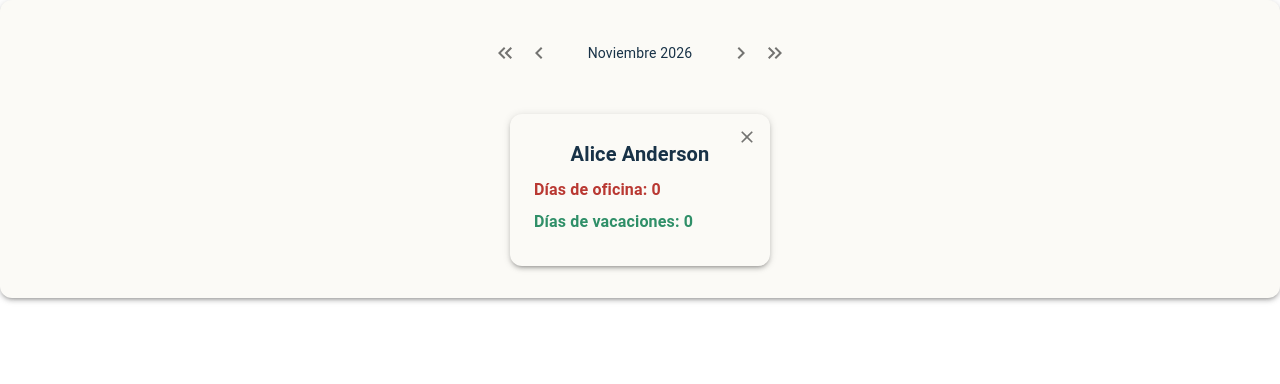
ManagerDashboard › shows a translated error when removing a coworker fails
The image size is (1280, 384).
Expected: the heading "Alice Anderson" is shown, [571,138,709,170]
Click the button with test id "CloseIcon": (747,137) [732,122,762,152]
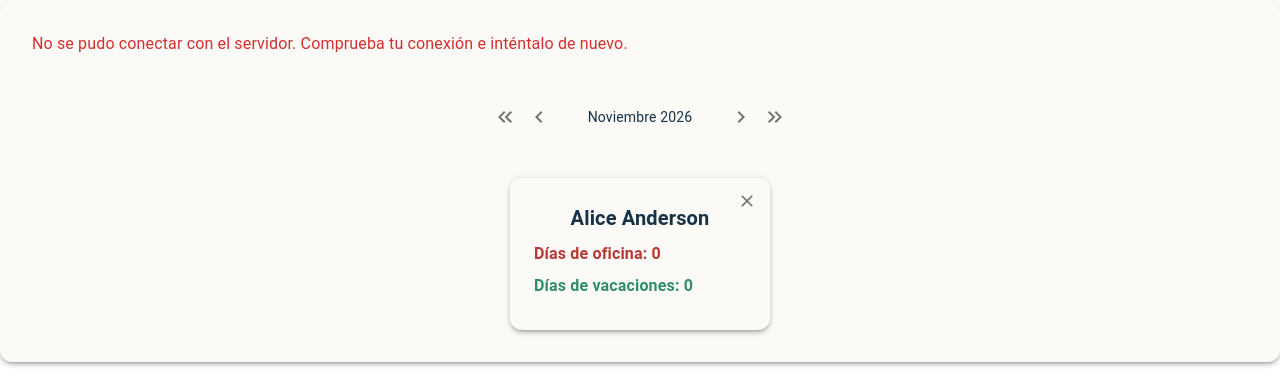
Now the text "No se pudo conectar con el servidor. Comprueba tu conexión e inténtalo de nuevo." is shown, box [32,34,628,53]
